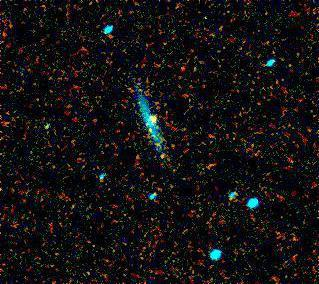star: (137, 105, 167, 135)
